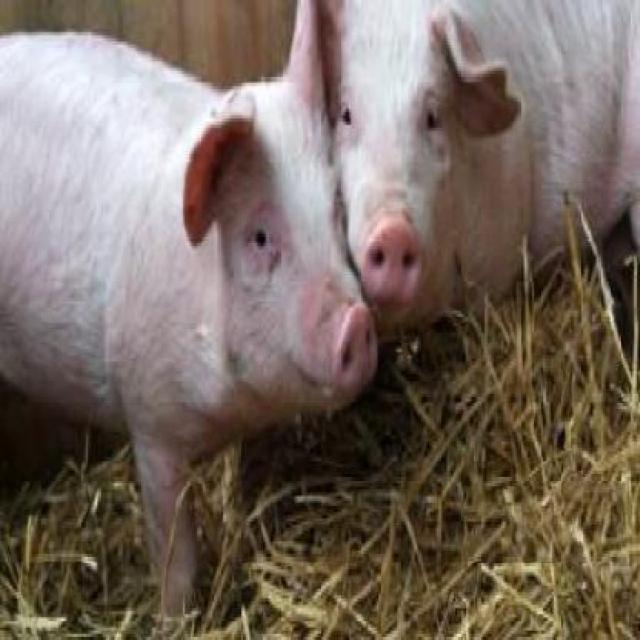pig: (0, 0, 376, 614), (318, 0, 640, 333)
